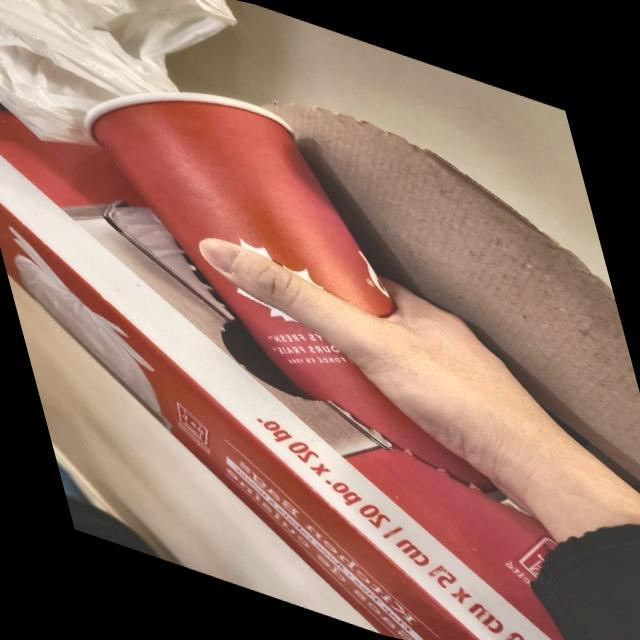timmies: (80, 87, 507, 498)
